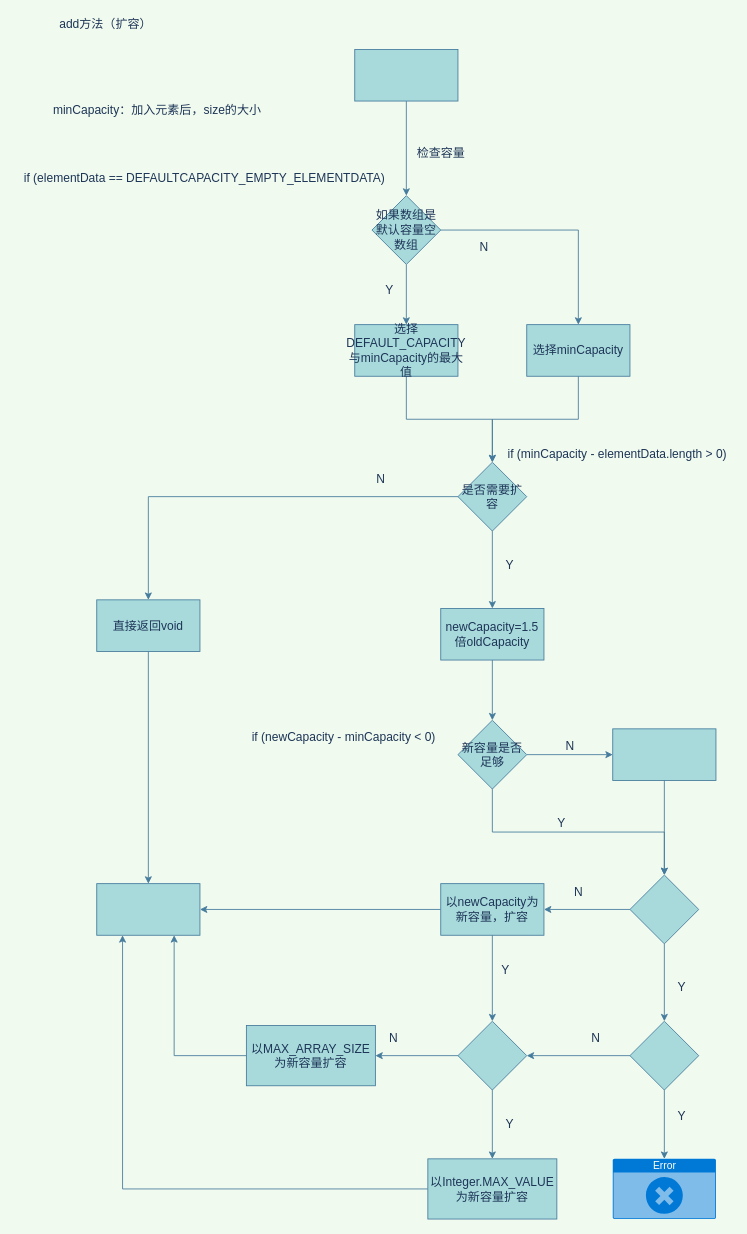
The diagram is 747 pixels wide and 1234 high, and some of its shapes have lost their labels. Each missing label, with the centre of its shape:
add(E): point 406,75
minCapacity是否大于 MAX_ARRAY_SIZE: point 492,1055
newCapacity = minCapacity: point 664,754
可以添加元素: point 148,909
新容量是否超过MAX_ARRAY_SIZE: point 664,909
是否溢出: point 664,1055
